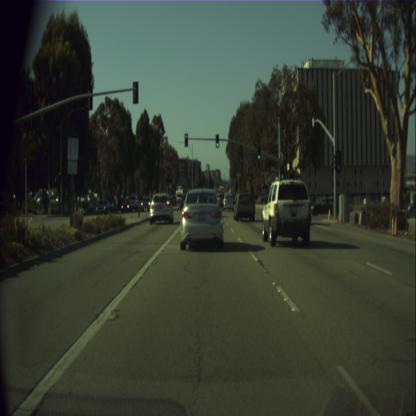Green: (335, 151, 341, 171), (280, 166, 284, 178), (216, 133, 219, 148), (257, 145, 260, 160)
Red: (184, 132, 188, 146)
RedLeft: (58, 170, 60, 182)
